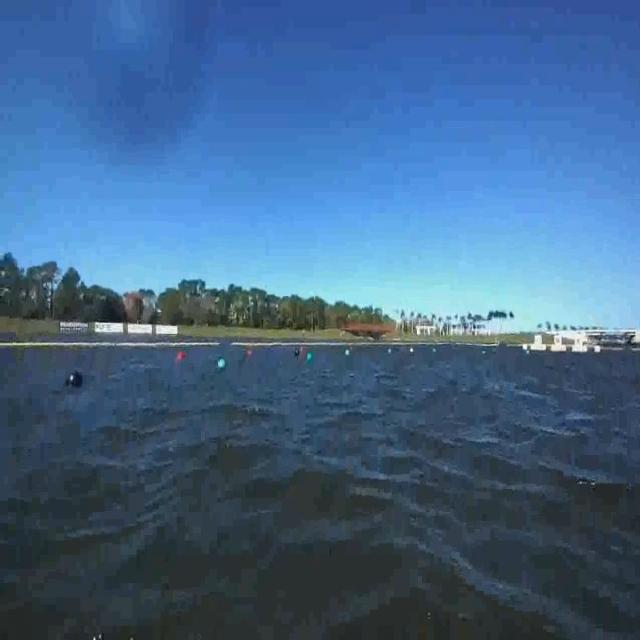black-buoy: (64, 370, 84, 390)
green-buoy: (217, 359, 228, 371)
red-buoy: (178, 352, 184, 364)
